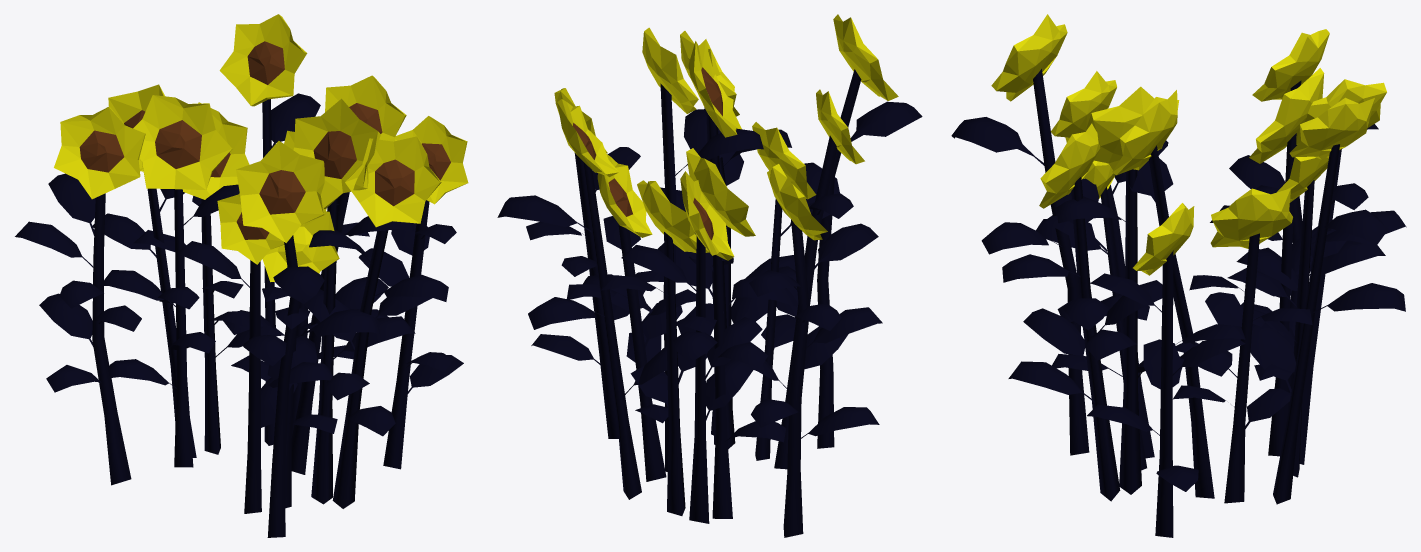
Rendered from PatchSunflower05.fbx.
The picture shows the model from 3 angles, left to right: view 1: azimuth 30°, elevation 25°; view 2: azimuth 150°, elevation 25°; view 3: azimuth 270°, elevation 25°; orthographic projection. The views are drawn at different scales.
Parts seen in each view (by area): view 1: PatchSunflower05; view 2: PatchSunflower05; view 3: PatchSunflower05.
Part boxes in pixels (x1,y1,x2,y2): PatchSunflower05: (15,14,468,537); PatchSunflower05: (497,14,922,537); PatchSunflower05: (951,14,1406,537).
Size of the model in its own units: 131 by 138 by 131.
